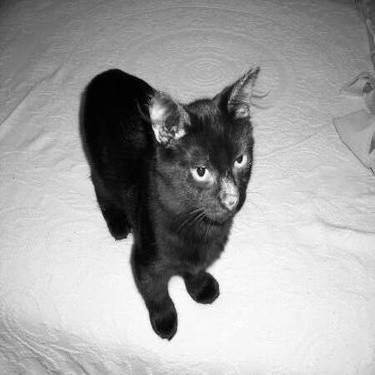cat: (62, 62, 259, 337)
